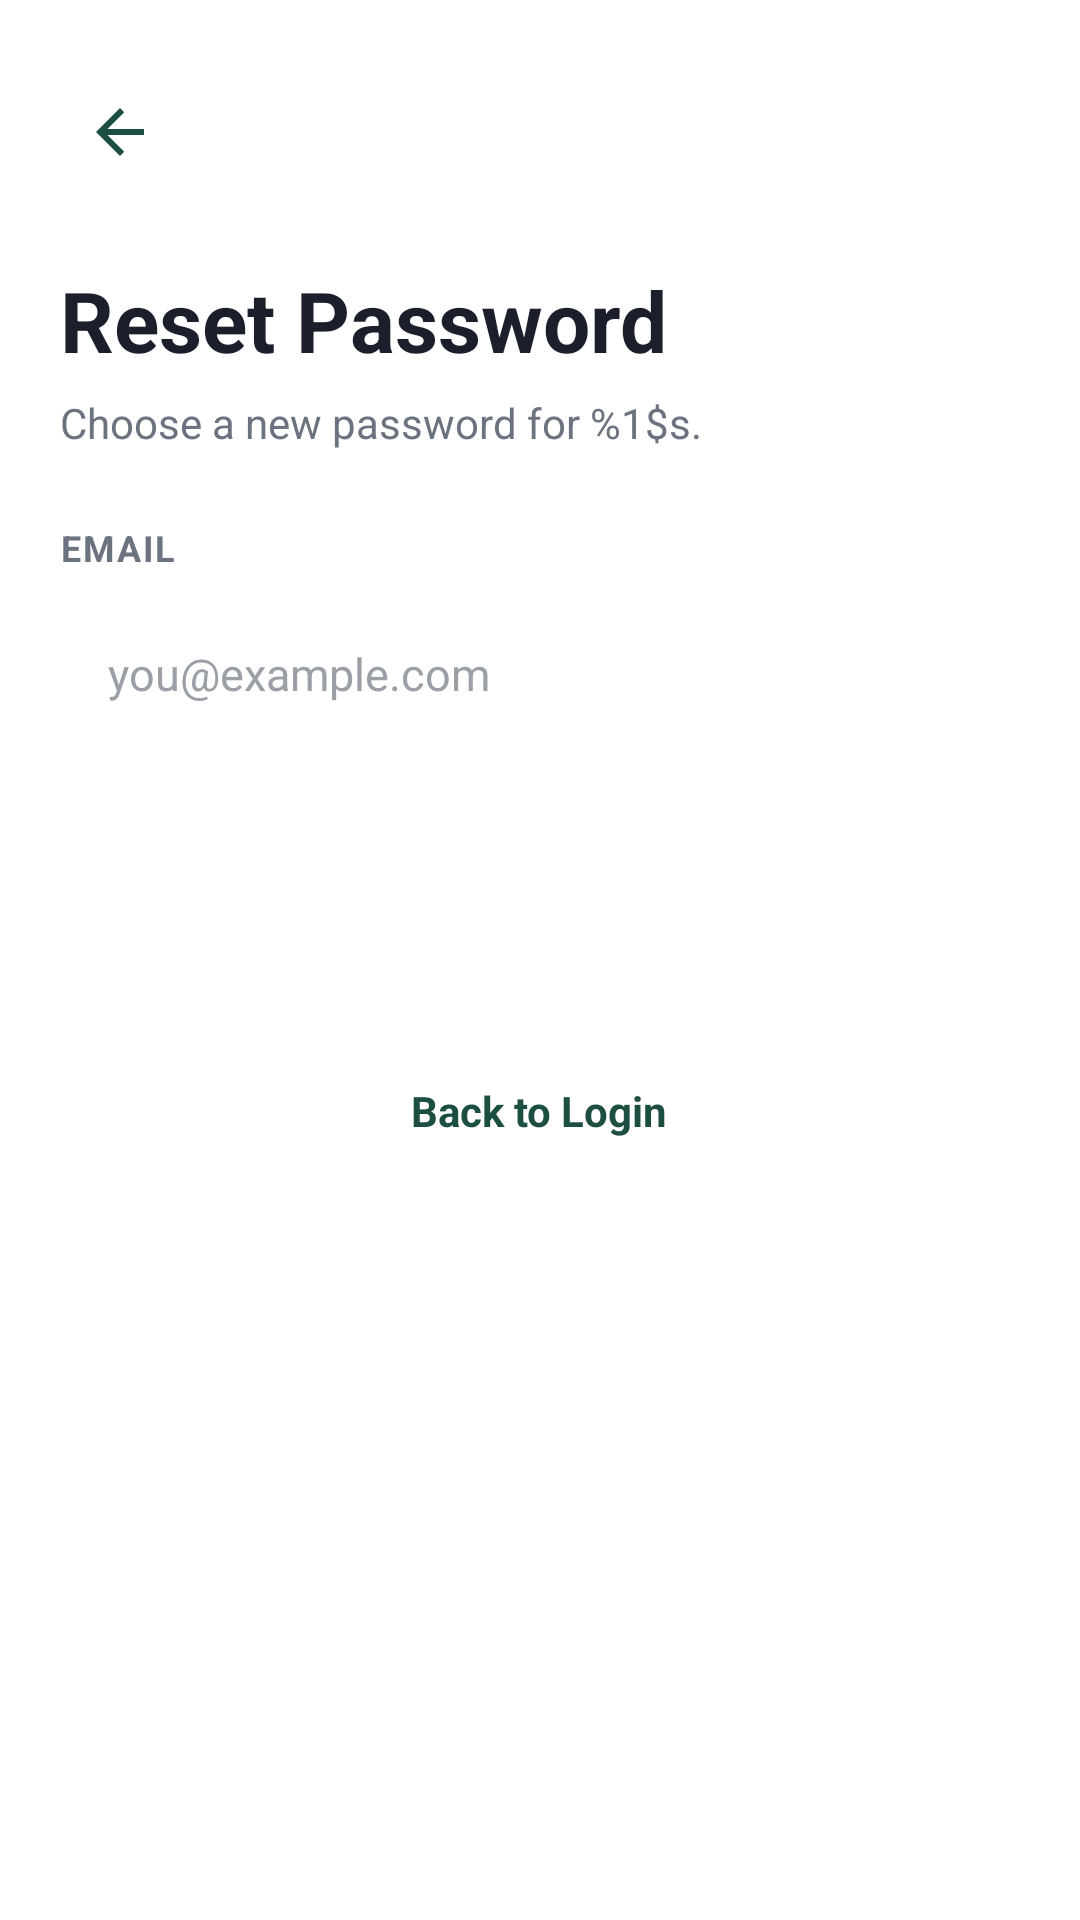

Named icons in this screenshot (1080 x 1920) and their centers, [x,y]:
Back: [120,132]
